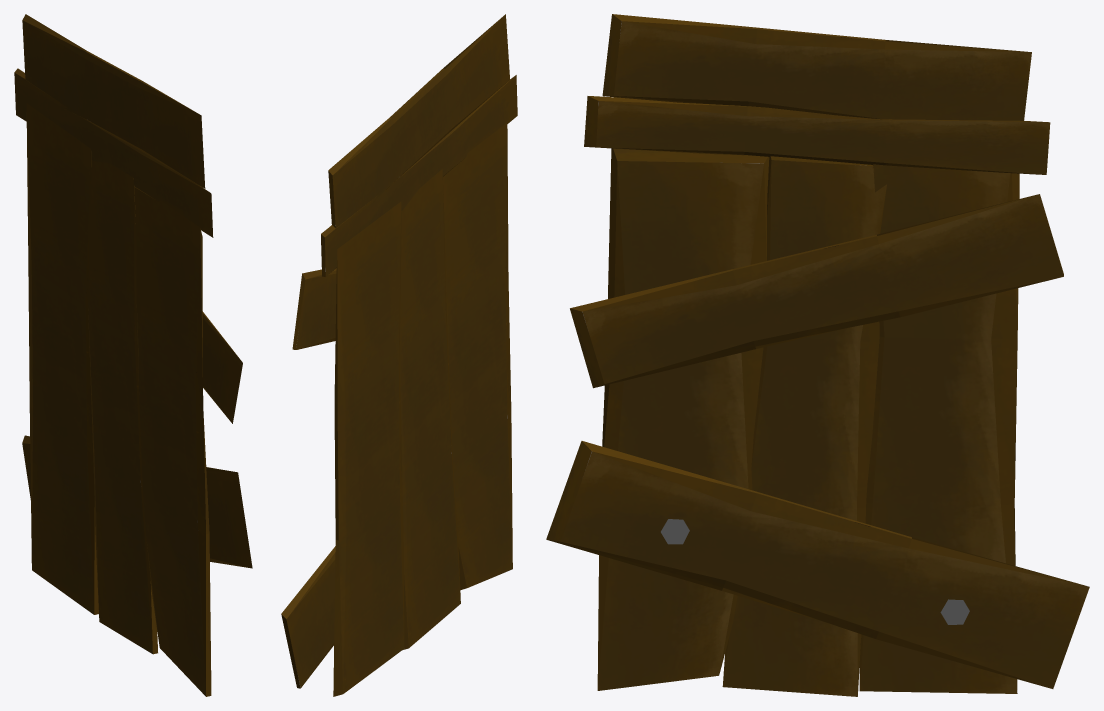
File: window-planks-2.fbx
The picture shows the model from 3 angles, left to right: view 1: azimuth 30°, elevation 25°; view 2: azimuth 150°, elevation 25°; view 3: azimuth 270°, elevation 25°; orthographic projection. The views are drawn at different scales.
Visible parts, largest first — view 1: Cube.071; view 2: Cube.071; view 3: Cube.071.
Part boxes in pixels (x1=…): Cube.071: x1=14, y1=14, x2=252, y2=696; Cube.071: x1=281, y1=14, x2=517, y2=696; Cube.071: x1=546, y1=14, x2=1089, y2=696.
Size of the model in its own units: 3.77 by 57.6 by 41.72.
